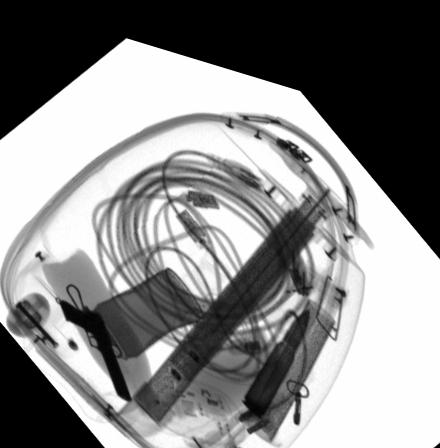Bullet: (241, 289, 307, 404)
Gun: (57, 294, 132, 395)
